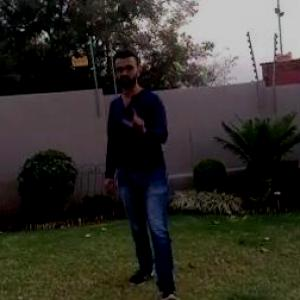land_hand: (122, 94, 152, 137)
